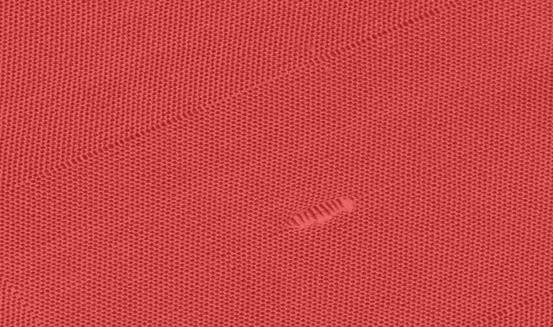slub: (283, 193, 361, 236)
